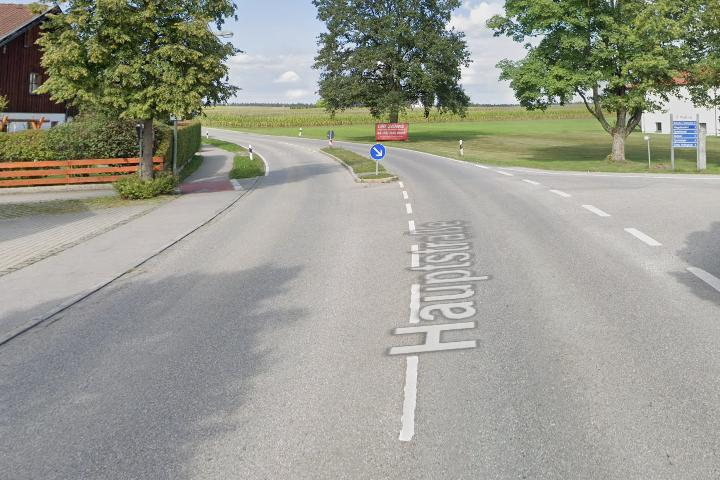traffic_sign: (370, 144, 386, 159)
